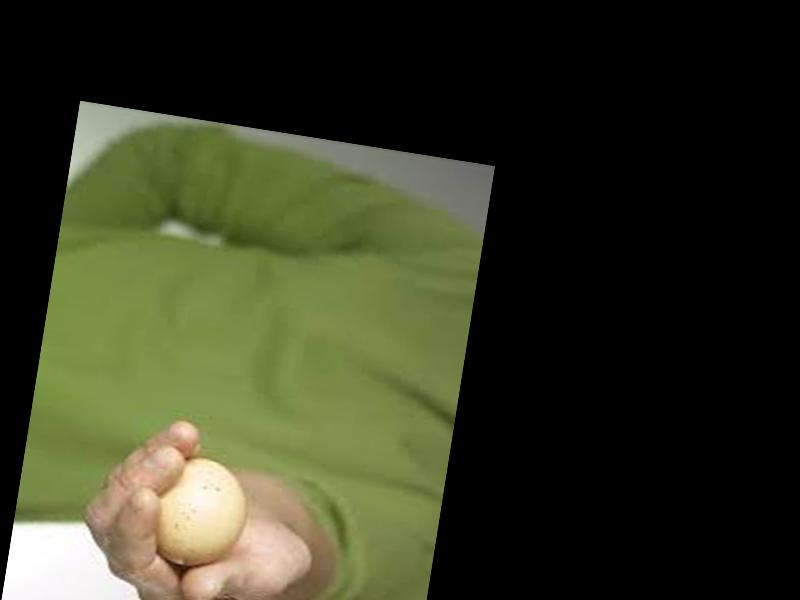Eggs: (149, 452, 252, 572)
